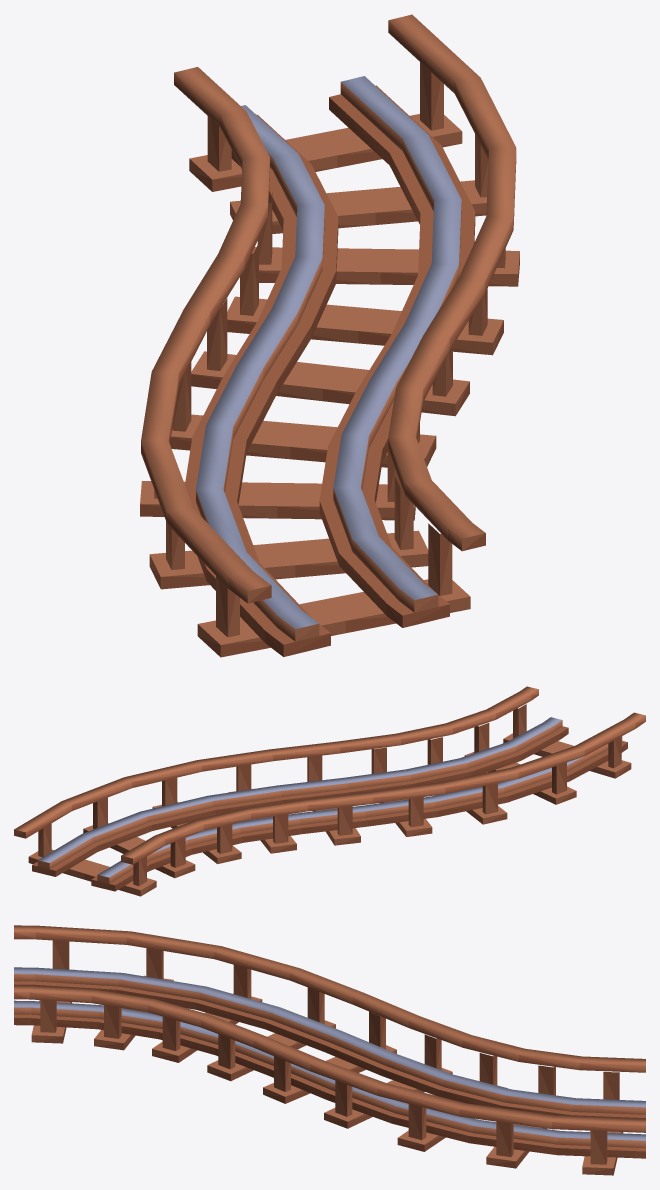
Rendered from coaster_coaster_wood_curve.glb.
The picture shows the model from 3 angles, top to bottom: view 1: azimuth 30°, elevation 25°; view 2: azimuth 150°, elevation 25°; view 3: azimuth 270°, elevation 25°; orthographic projection. The views are drawn at different scales.
Visible parts, largest first — view 1: coaster_coaster_wood_curve; view 2: coaster_coaster_wood_curve; view 3: coaster_coaster_wood_curve.
Boxes of the visible parts, x1,y1,x2,y2 form: coaster_coaster_wood_curve: [140, 14, 519, 657]; coaster_coaster_wood_curve: [14, 686, 645, 896]; coaster_coaster_wood_curve: [14, 925, 645, 1175].
Bounding box in the file's own units: 3 × 0.35 × 4.
